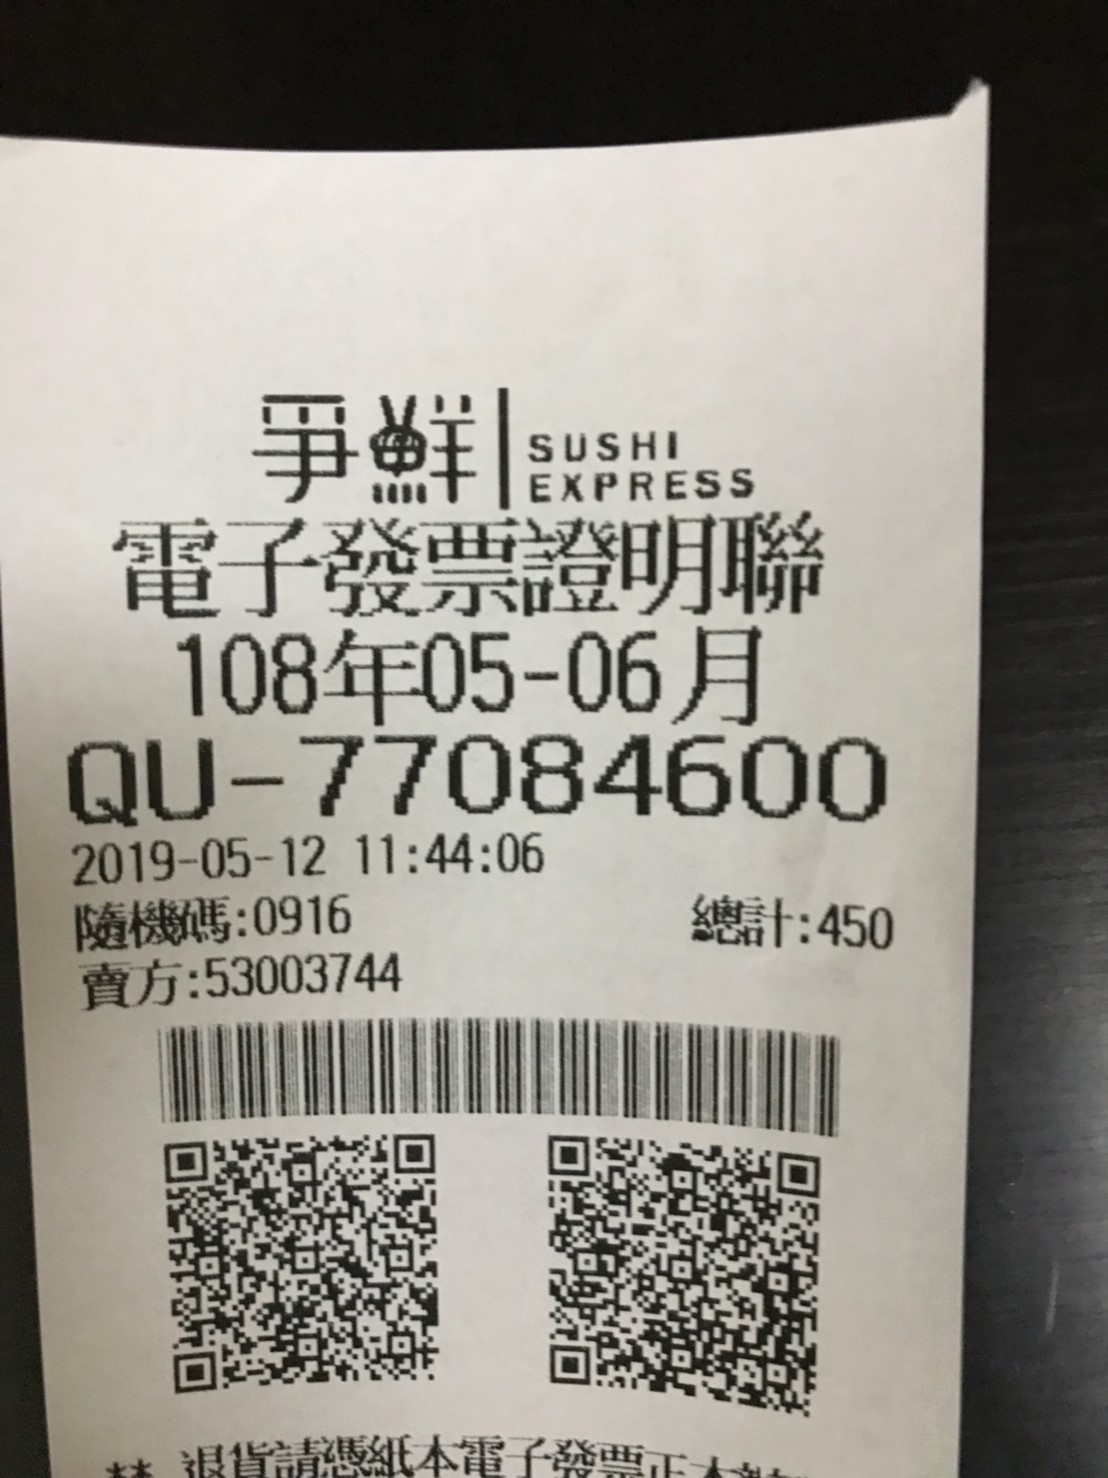Date_New: (173, 620, 770, 731)
Number_New: (294, 725, 893, 829)
